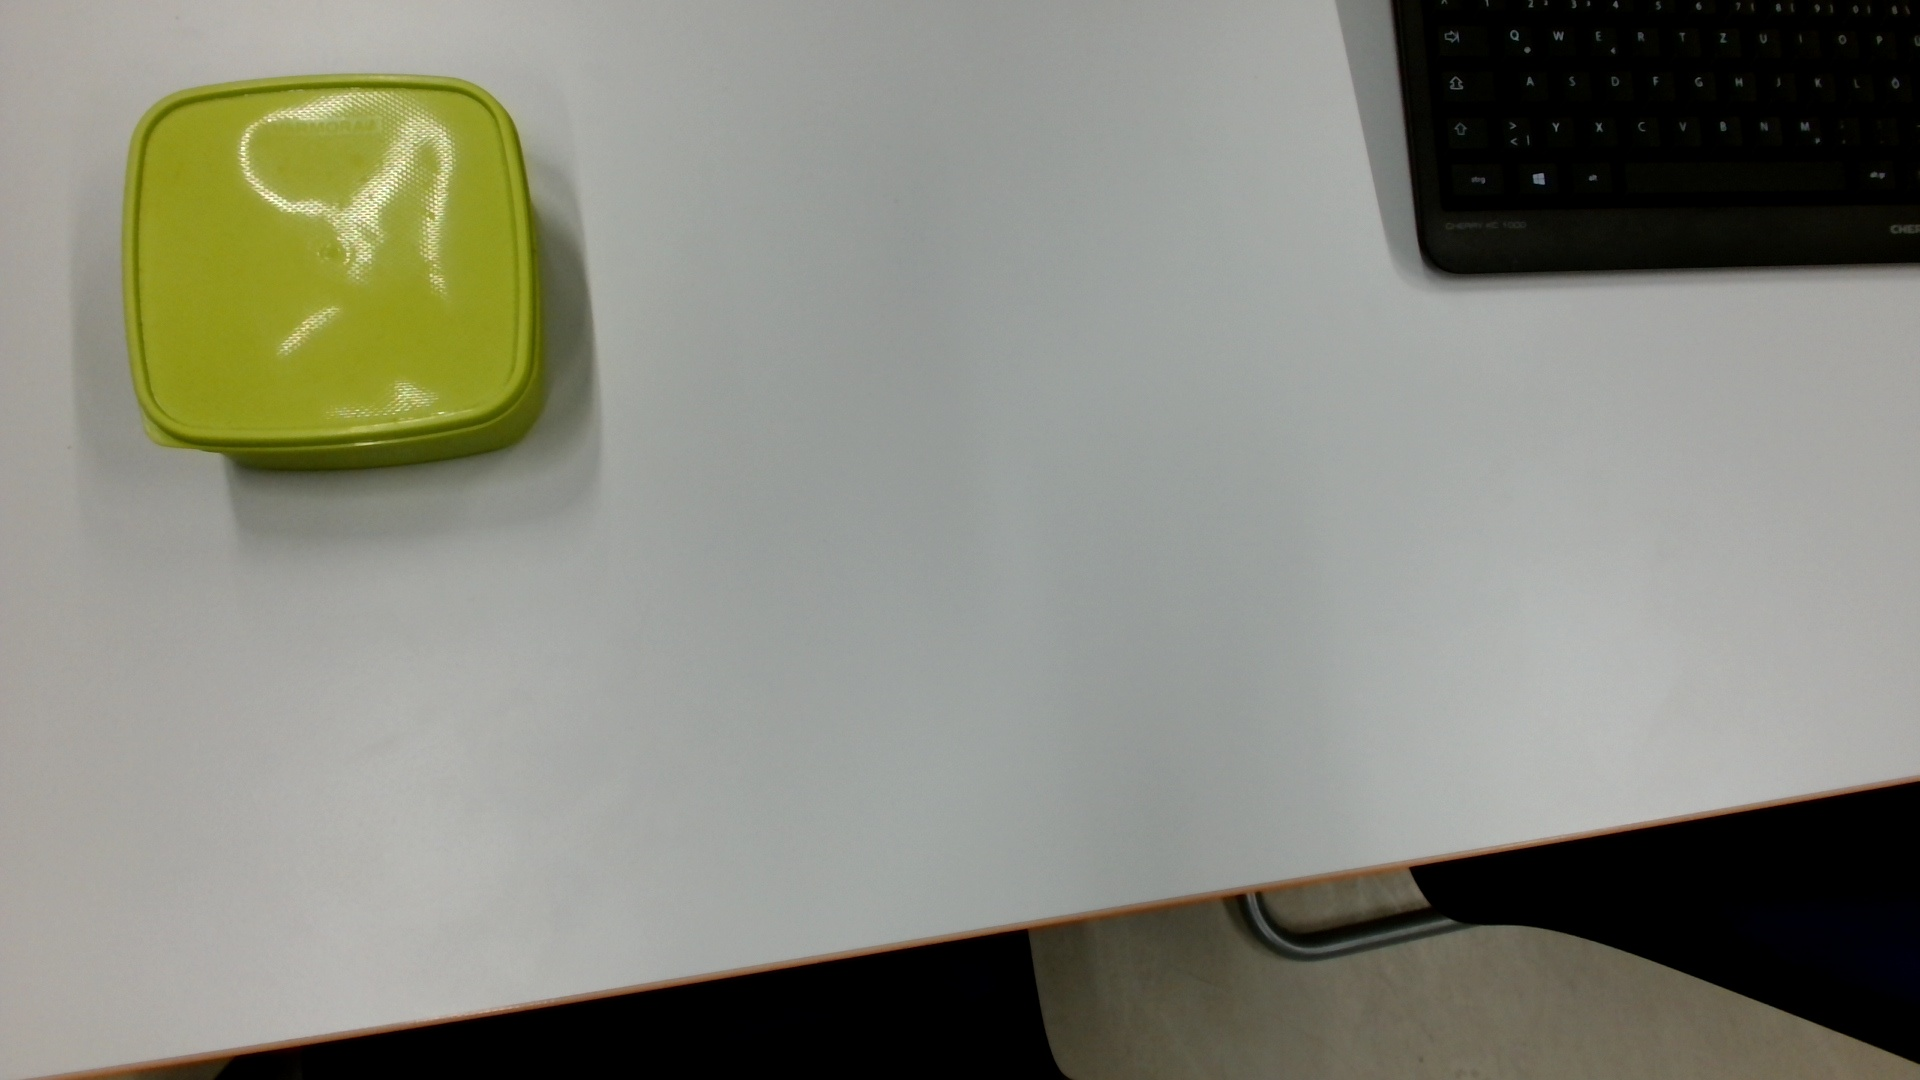Box: (112, 66, 556, 485)
